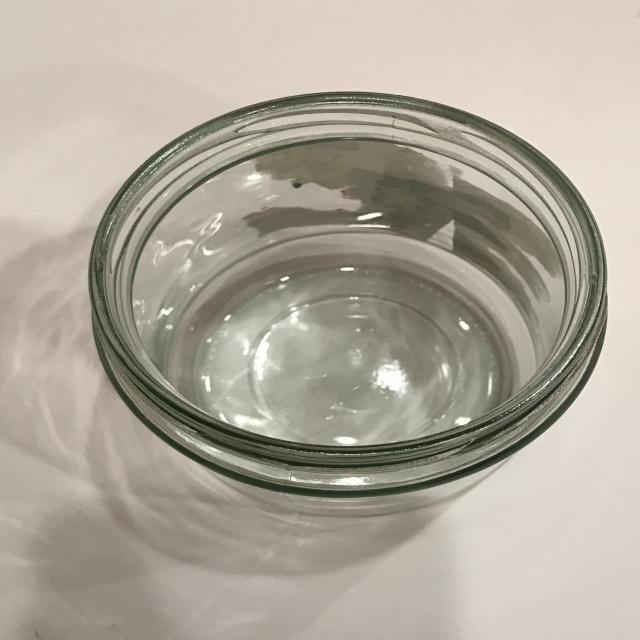glass: (87, 89, 609, 522)
